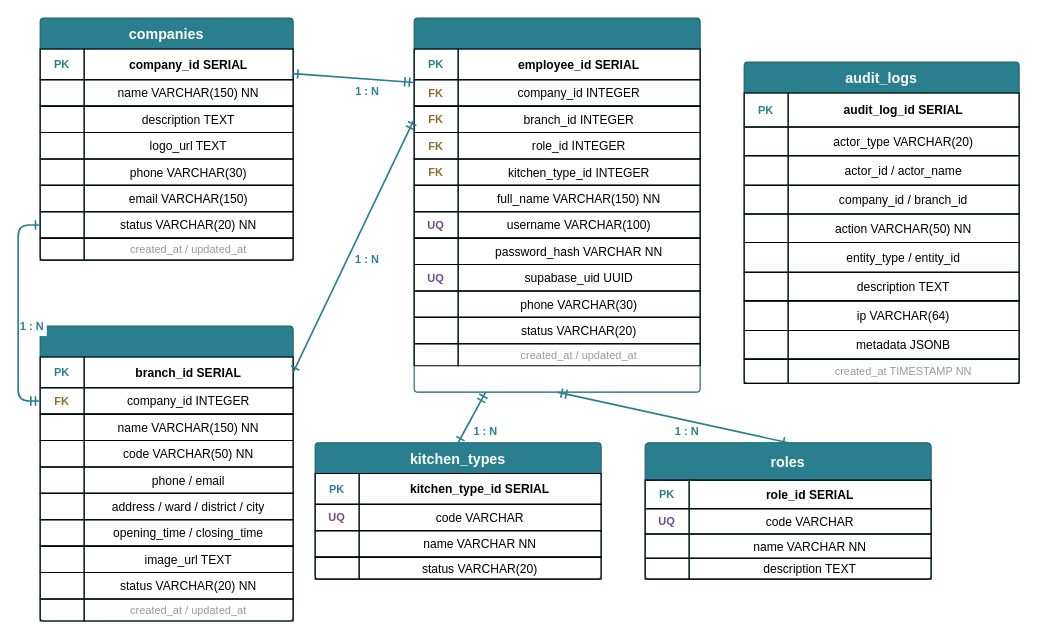
Some shapes in this 1037 by 639 pixel diagram are drawn without their labels. Each missing label, with the box of its shape:
branches: (39, 325, 293, 621)
employees: (413, 17, 700, 392)
